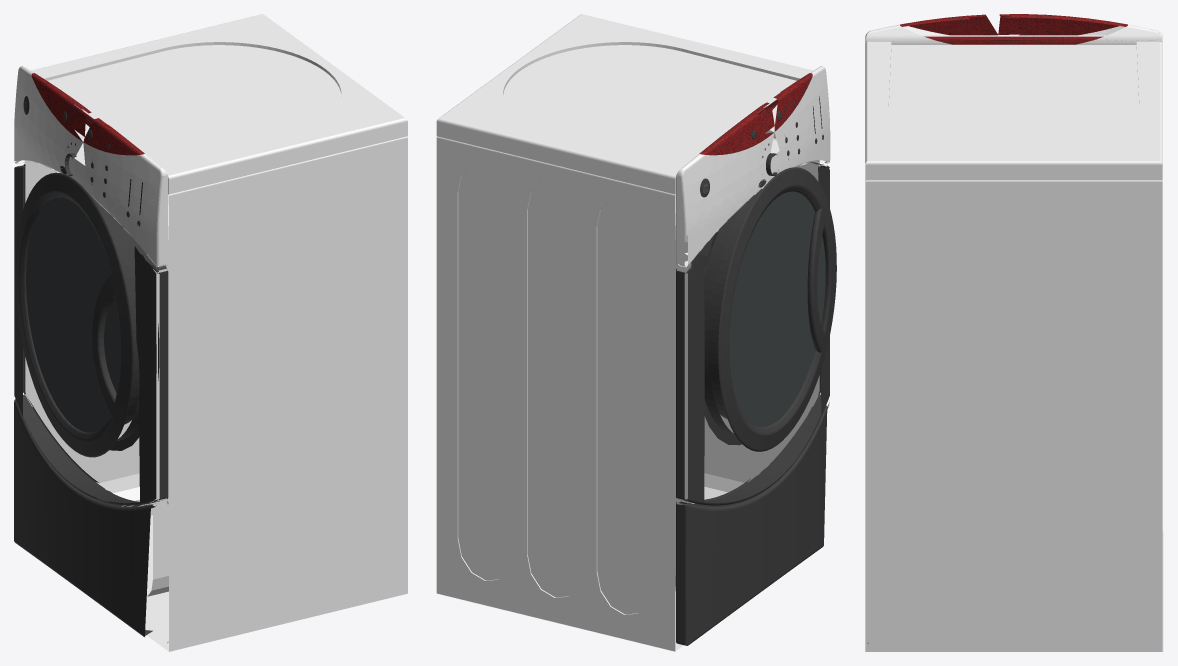
The model's file is washer.dae.
The picture shows the model from 3 angles, left to right: view 1: azimuth 30°, elevation 25°; view 2: azimuth 150°, elevation 25°; view 3: azimuth 270°, elevation 25°; orthographic projection. The views are drawn at different scales.
Parts seen in each view (by area): view 1: washer_body_outer_right, washer_body_outer_top, washer_door (×2), washer_body_front_bottom, washer_body_front_top_right (×2), washer_body_front_right, washer_body_front_top_left (×2), washer_body_inner_left, washer_body_inner_right, washer_body_front_left, washer_body_base, washer_body_outer_left; view 2: washer_body_outer_left, washer_body_outer_top, washer_door (×2), washer_body_front_bottom, washer_body_front_top_left (×2), washer_body_front_left, washer_body_front_top_right (×2), washer_body_inner_right, washer_body_inner_left, washer_body_front_right; view 3: washer_body_outer_back, washer_body_outer_top (×2), washer_body_front_top_left (×3), washer_body_front_top_right (×2).
Part boxes in pixels (bbox=[...]): washer_body_outer_right: bbox=[169, 138, 407, 651]; washer_body_outer_top: bbox=[31, 14, 407, 195]; washer_door (×2): bbox=[15, 172, 159, 457]; washer_body_front_bottom: bbox=[14, 395, 156, 636]; washer_body_front_top_right (×2): bbox=[82, 118, 168, 267]; washer_body_front_right: bbox=[134, 244, 167, 503]; washer_body_front_top_left (×2): bbox=[14, 66, 91, 191]; washer_body_inner_left: bbox=[40, 165, 139, 500]; washer_body_inner_right: bbox=[146, 226, 168, 596]; washer_body_front_left: bbox=[14, 165, 29, 415]; washer_body_base: bbox=[145, 515, 168, 651]; washer_body_outer_left: bbox=[24, 160, 152, 515]; washer_body_outer_left: bbox=[436, 138, 676, 651]; washer_body_outer_top: bbox=[436, 14, 812, 195]; washer_door (×2): bbox=[704, 167, 836, 451]; washer_body_front_bottom: bbox=[676, 402, 829, 645]; washer_body_front_top_left (×2): bbox=[675, 102, 780, 267]; washer_body_front_left: bbox=[676, 254, 704, 501]; washer_body_front_top_right (×2): bbox=[770, 66, 830, 172]; washer_body_inner_right: bbox=[691, 164, 803, 503]; washer_body_inner_left: bbox=[675, 226, 691, 591]; washer_body_front_right: bbox=[808, 161, 829, 415]; washer_body_outer_back: bbox=[865, 182, 1162, 651]; washer_body_outer_top (×2): bbox=[865, 35, 1162, 181]; washer_body_front_top_left (×3): bbox=[998, 14, 1162, 44]; washer_body_front_top_right (×2): bbox=[865, 14, 997, 44].
Bounding box in the file's own units: 0.7492 × 0.684 × 1.29.
